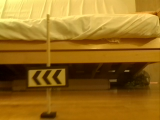left: (26, 68, 68, 87)
